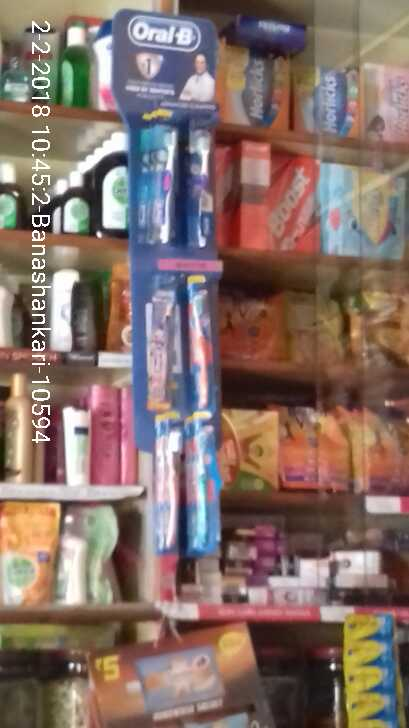oralb: (184, 411, 215, 550), (154, 411, 184, 551), (185, 271, 214, 411), (186, 109, 215, 248), (152, 107, 179, 245)
